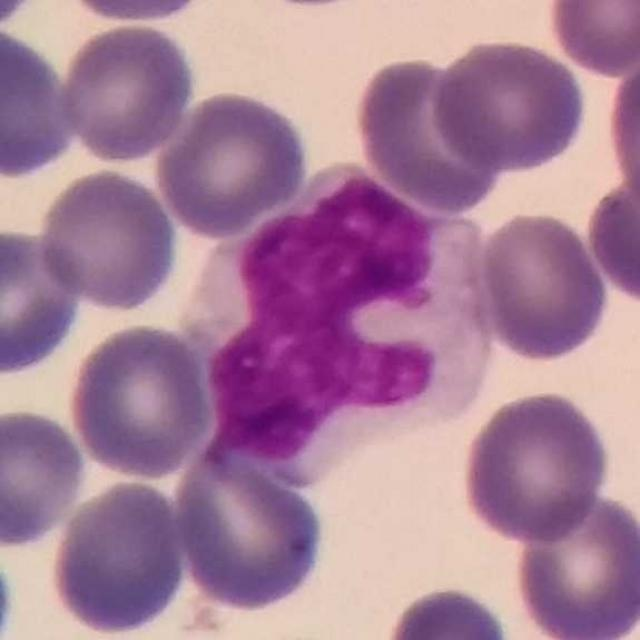Monocyte: (191, 162, 507, 492)
RBC: (168, 438, 332, 616), (350, 52, 508, 215), (458, 386, 614, 547), (63, 319, 216, 482), (151, 87, 313, 238), (46, 476, 190, 638), (429, 34, 591, 174), (34, 165, 182, 314), (474, 207, 612, 364), (56, 19, 198, 165), (509, 489, 639, 640), (0, 222, 86, 382), (0, 19, 80, 185), (0, 404, 89, 552), (583, 162, 640, 310), (379, 581, 518, 640), (543, 0, 640, 78), (603, 46, 640, 212), (58, 0, 220, 26)
